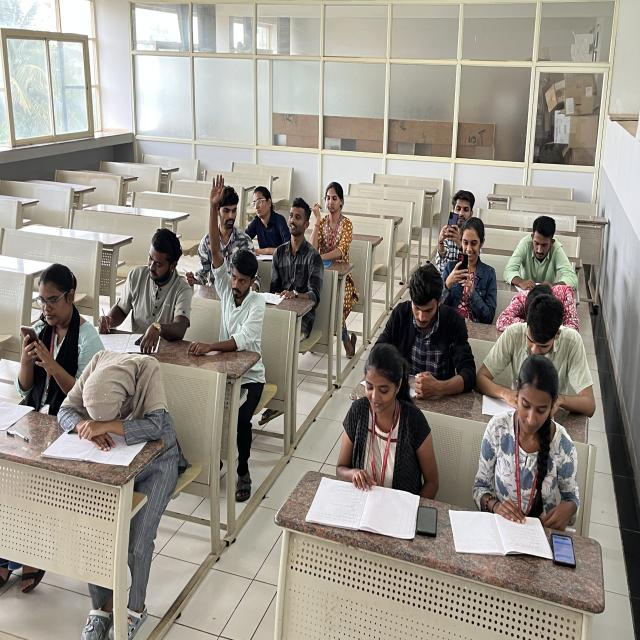Hand Rising: (202, 236, 268, 340), (194, 170, 250, 259)
Reading: (318, 348, 433, 525), (480, 357, 576, 541)
Sleeping: (55, 343, 182, 457)
Using Phone: (376, 270, 473, 402), (17, 251, 87, 403), (434, 222, 499, 310)
Writing: (90, 225, 186, 351)
